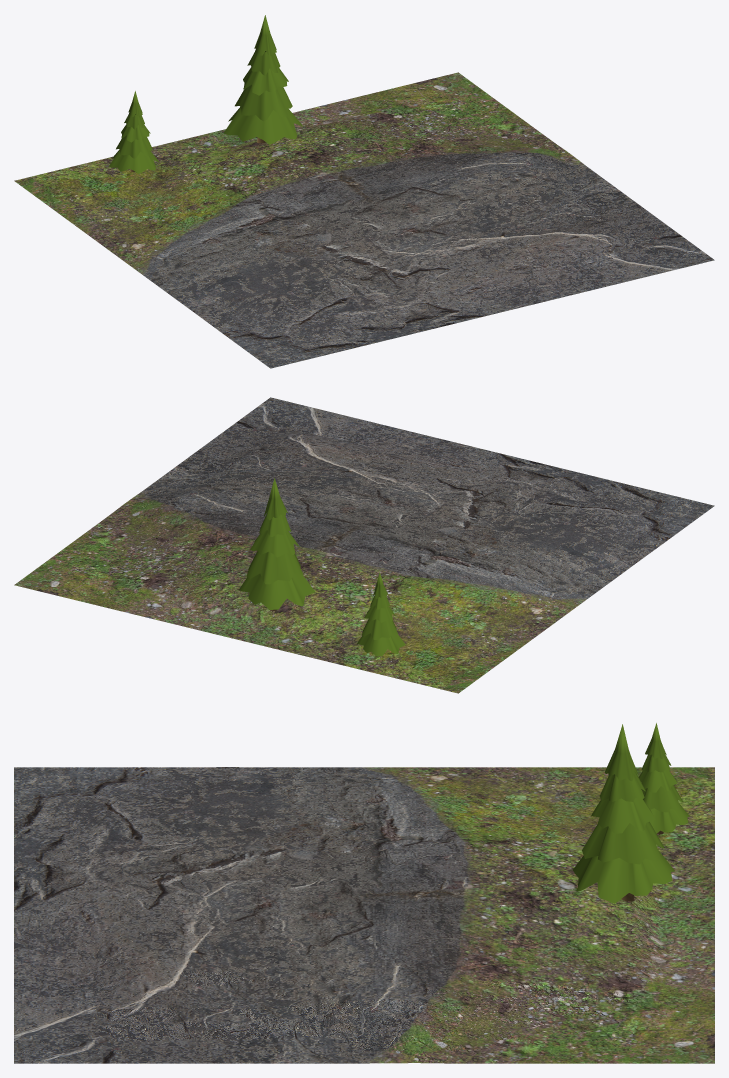
The model's file is FFMM.fbx.
3 views of the same model, one above another, from view 1: azimuth 30°, elevation 25°; view 2: azimuth 150°, elevation 25°; view 3: azimuth 270°, elevation 25° (orthographic). The views are drawn at different scales.
Visible parts, largest first — view 1: Plane, Resource_PineTree_Group.031, Resource_PineTree_Group.032, Resource_PineTree_Group.033, Resource_PineTree_Group.005; view 2: Plane, Resource_PineTree_Group.031, Resource_PineTree_Group.032, Resource_PineTree_Group.033, Resource_PineTree_Group.005, Resource_PineTree_Group.004, Resource_PineTree_Group.035, Resource_PineTree_Group.034; view 3: Plane, Resource_PineTree_Group.031, Resource_PineTree_Group.032, Resource_PineTree_Group.033, Resource_PineTree_Group.034, Resource_PineTree_Group.035, Resource_PineTree_Group.004, Resource_PineTree_Group.005, Resource_PineTree_Group.003.
Boxes of the visible parts, x1,y1,x2,y2 form: Plane: (14, 72, 714, 368); Resource_PineTree_Group.031: (224, 107, 302, 144); Resource_PineTree_Group.032: (235, 84, 292, 121); Resource_PineTree_Group.033: (243, 67, 288, 95); Resource_PineTree_Group.005: (109, 150, 159, 173); Plane: (14, 397, 714, 693); Resource_PineTree_Group.031: (239, 573, 314, 609); Resource_PineTree_Group.032: (246, 551, 303, 584); Resource_PineTree_Group.033: (250, 530, 299, 557); Resource_PineTree_Group.005: (357, 633, 405, 656); Resource_PineTree_Group.004: (362, 619, 397, 639); Resource_PineTree_Group.035: (264, 478, 287, 520); Resource_PineTree_Group.034: (259, 513, 291, 536); Plane: (14, 767, 714, 1063); Resource_PineTree_Group.031: (573, 850, 674, 903); Resource_PineTree_Group.032: (582, 821, 664, 864); Resource_PineTree_Group.033: (591, 798, 655, 833); Resource_PineTree_Group.034: (599, 771, 645, 801); Resource_PineTree_Group.035: (604, 724, 638, 781); Resource_PineTree_Group.004: (642, 785, 682, 812); Resource_PineTree_Group.005: (650, 803, 689, 833); Resource_PineTree_Group.003: (638, 770, 677, 792).
Size of the model in its own units: 500 by 151 by 500.
